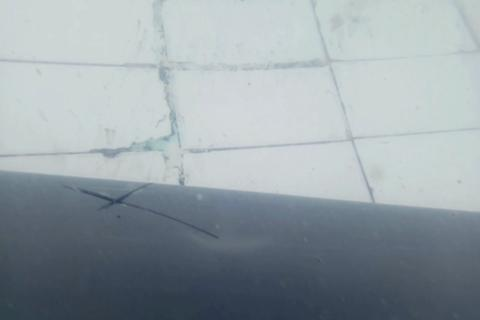keretakan: (61, 178, 221, 242)
